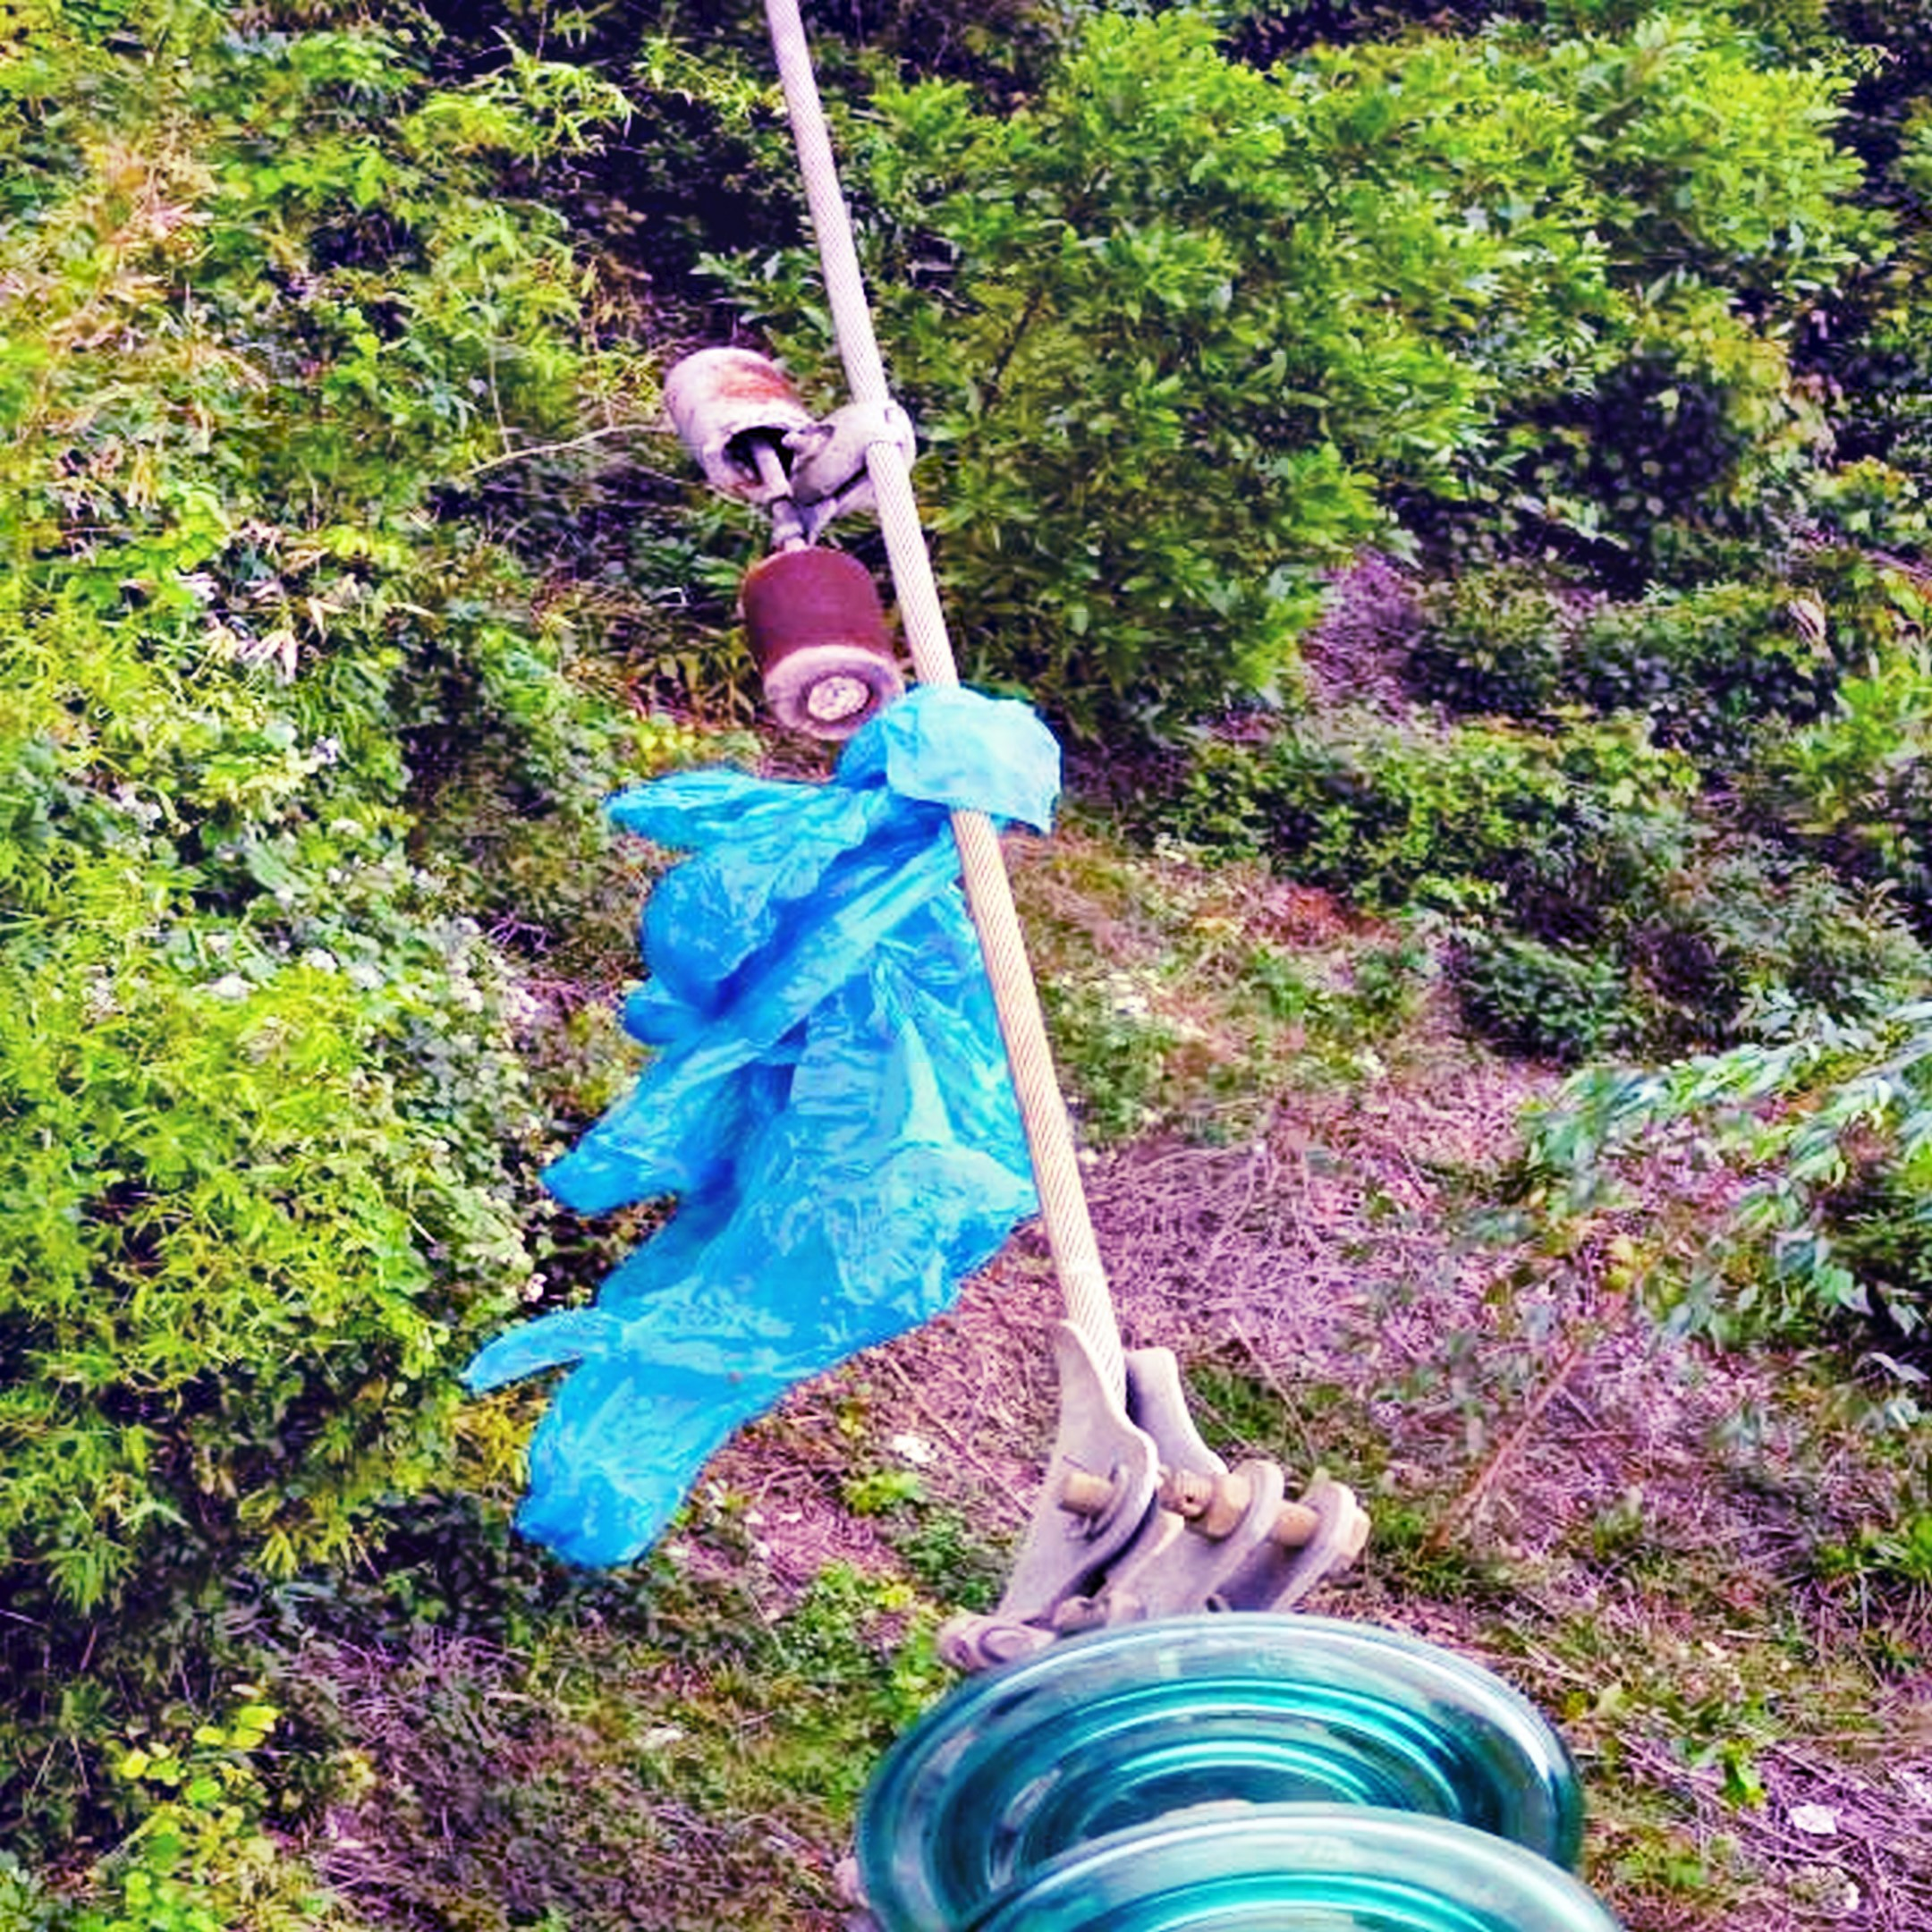wire foreign body: (488, 635, 1104, 1568)
